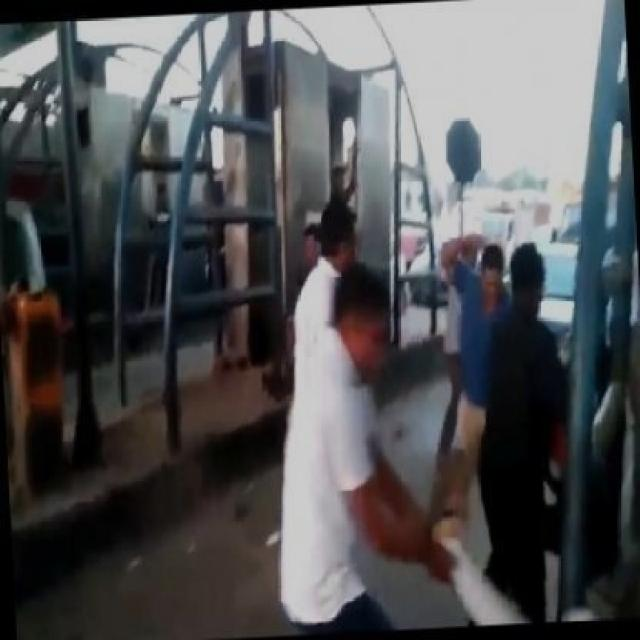fight: (279, 212, 575, 638)
